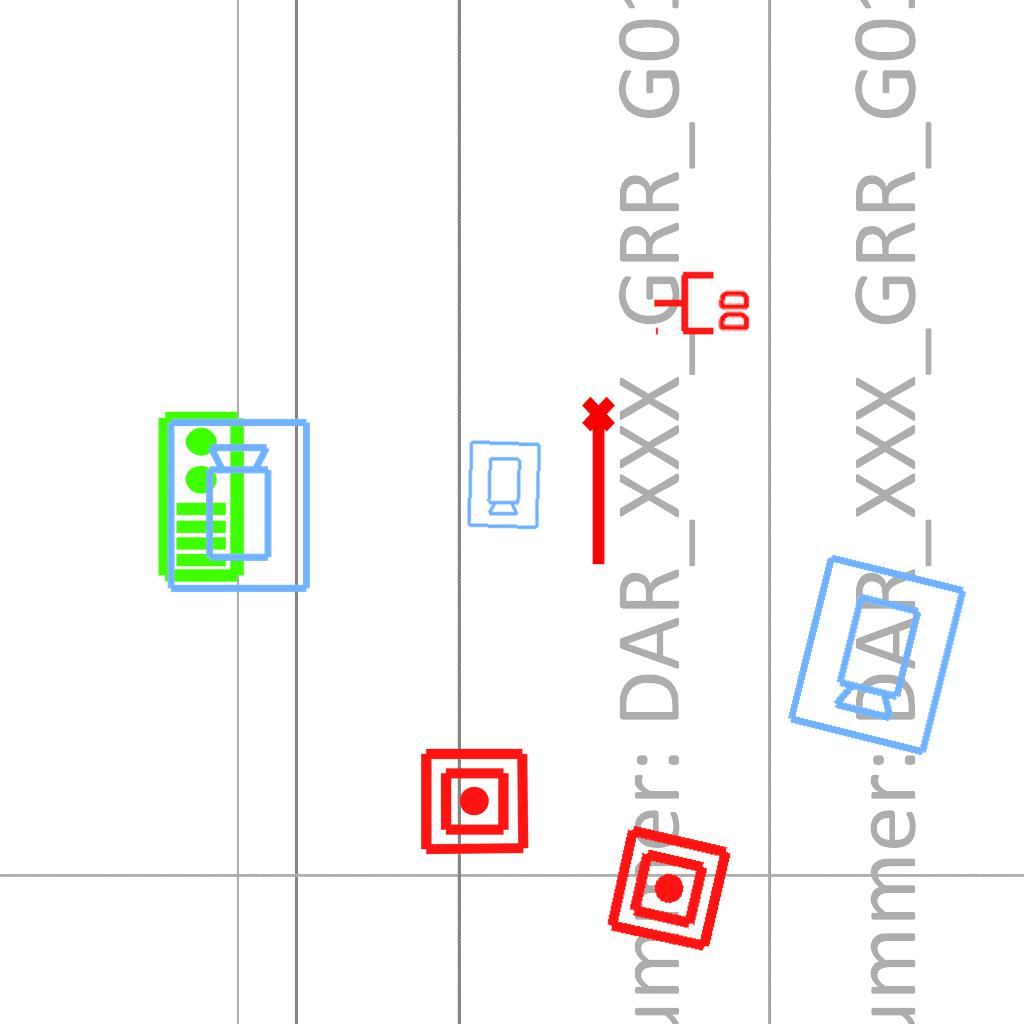ASR_Ansaugoeffnung: (578, 394, 624, 570)
Datenanschluss_zweifach: (651, 267, 754, 336)
Gegensprechanlage_mit_Video: (152, 408, 247, 584)
KFO_Kamera_mit_Festobjektiv: (779, 547, 973, 761), (163, 415, 317, 597), (463, 437, 544, 532)
NAM-Nichtautomatischer_Melder: (600, 820, 737, 957), (418, 745, 531, 858)
